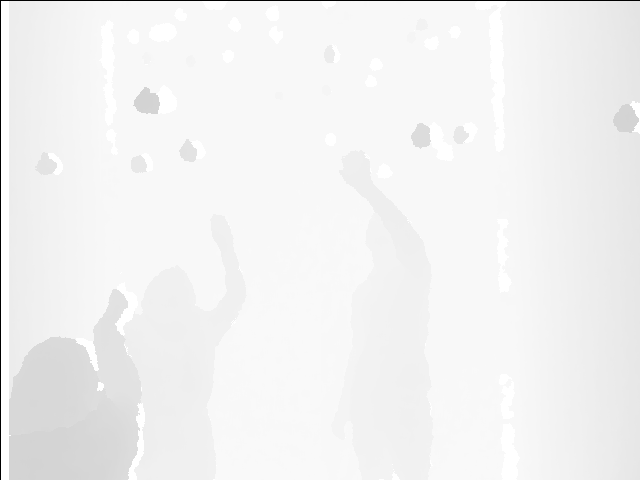hand: (340, 149, 375, 188), (98, 288, 132, 326), (210, 214, 234, 250)
